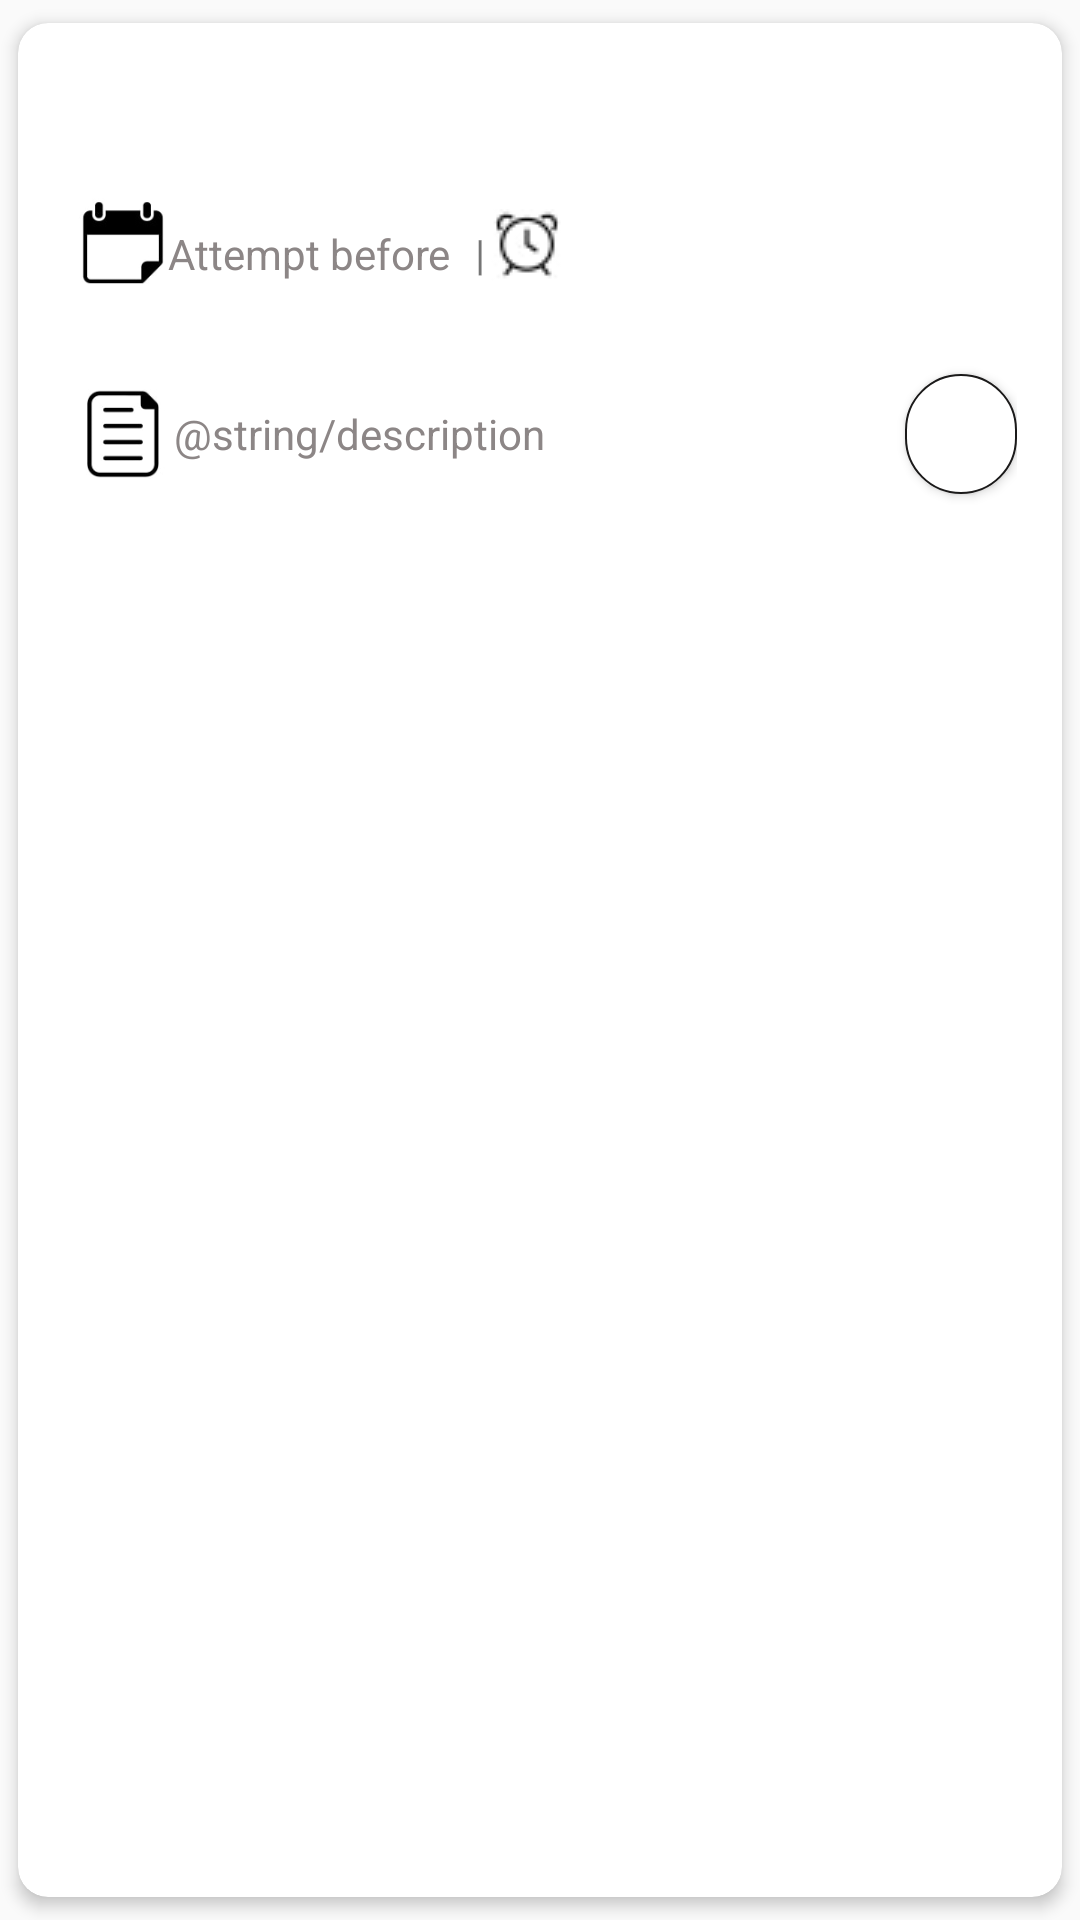

Icons on this 1080 x 1920 Android screen, each with the point to tap as [x,y]:
calendar: [123,243]
clock: [527,244]
document: [123,434]
